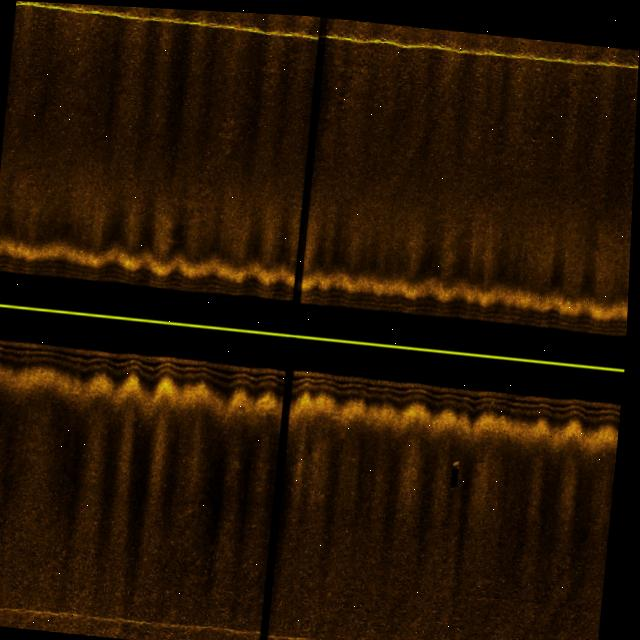mine: (451, 451, 470, 487)
